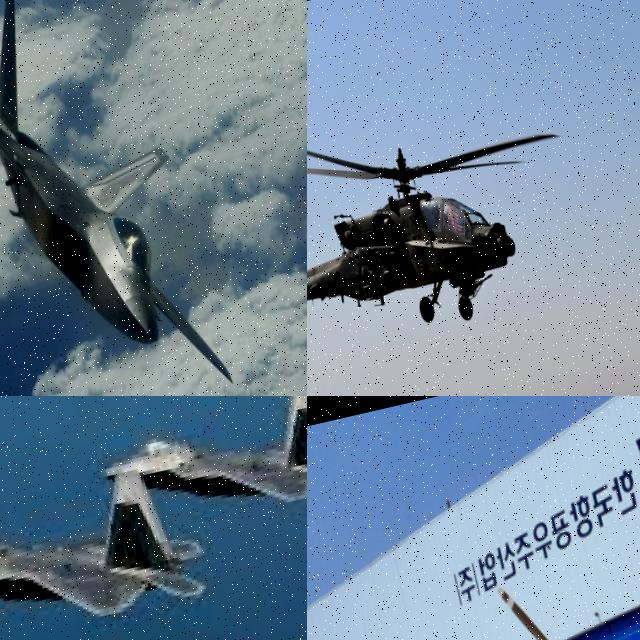Apache: (307, 64, 593, 362)
F22: (0, 0, 259, 396), (0, 458, 213, 640), (89, 396, 307, 541)
KT-1: (307, 505, 640, 640)
